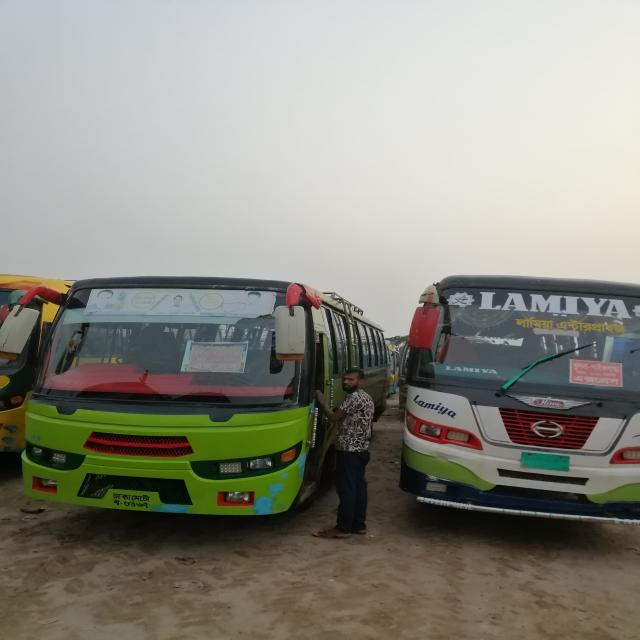Bus: (23, 278, 331, 523), (393, 278, 640, 532)
